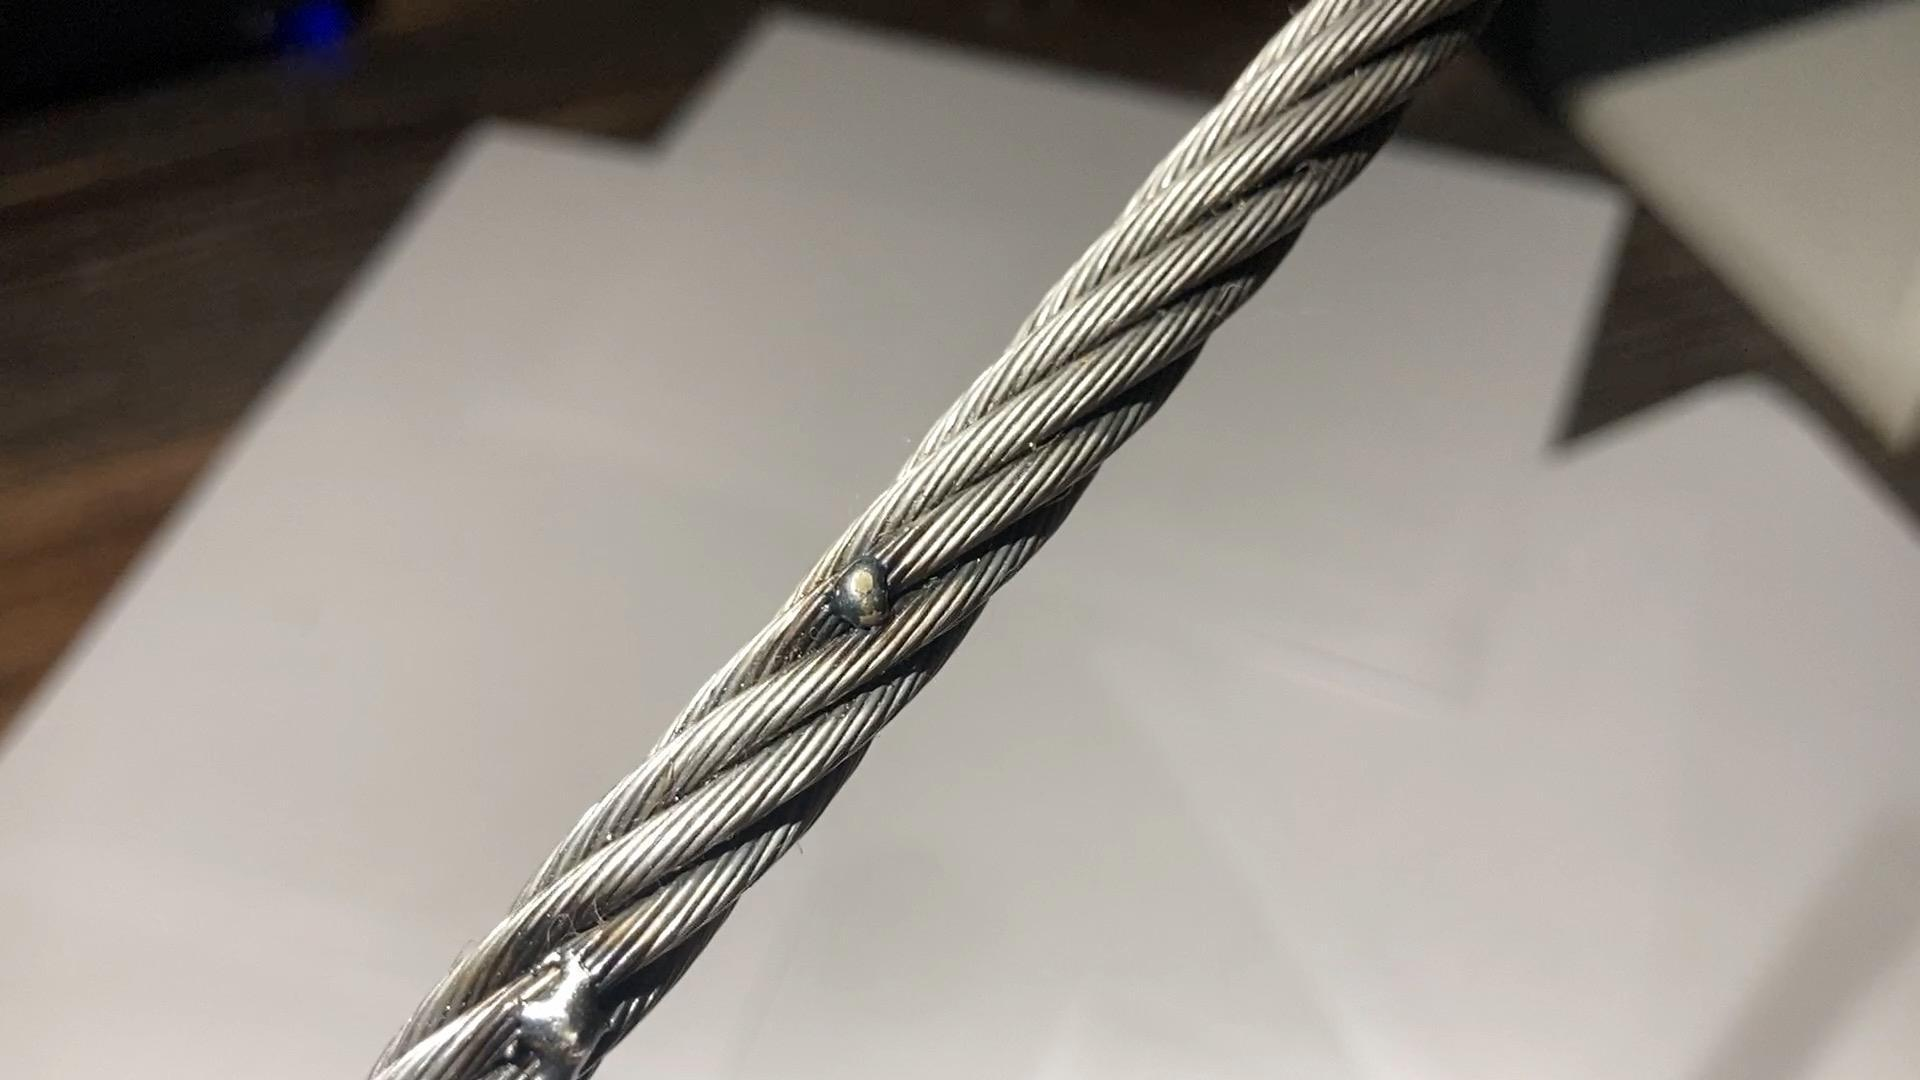thunderbolt: (495, 957, 621, 1047), (818, 553, 907, 629)
